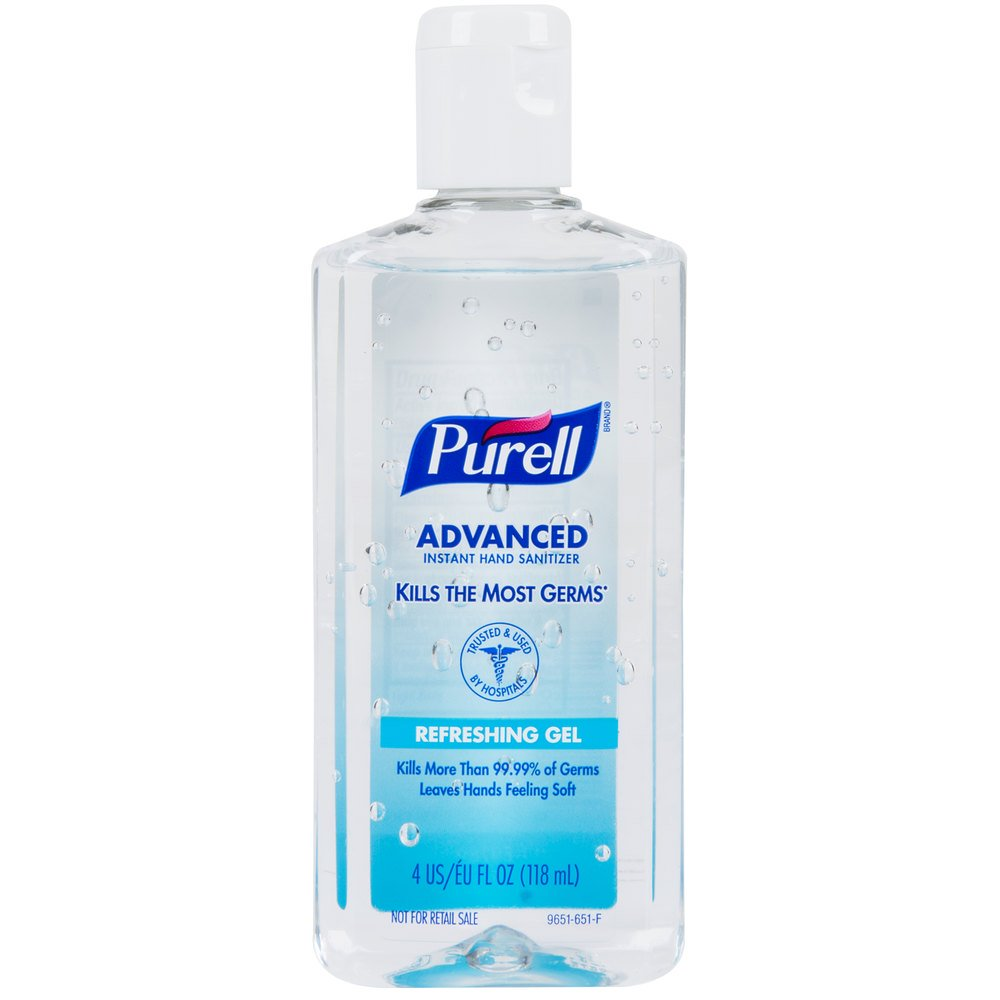Sanitizer: (297, 1, 696, 1000)
